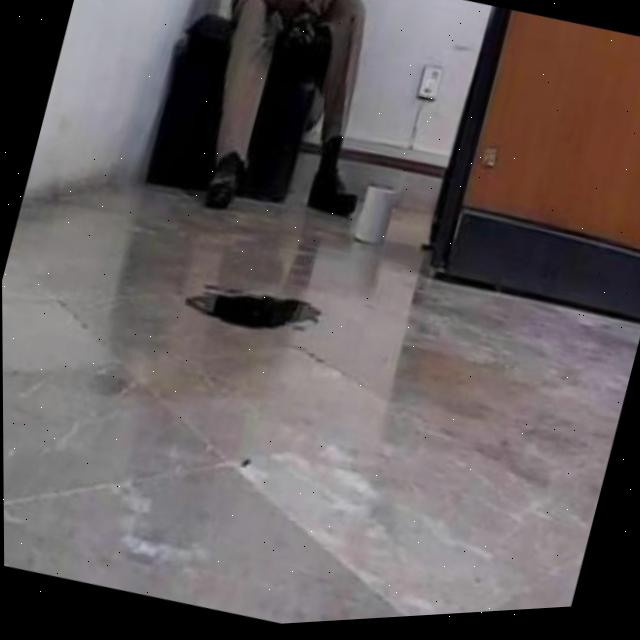spillage: (171, 287, 333, 345)
